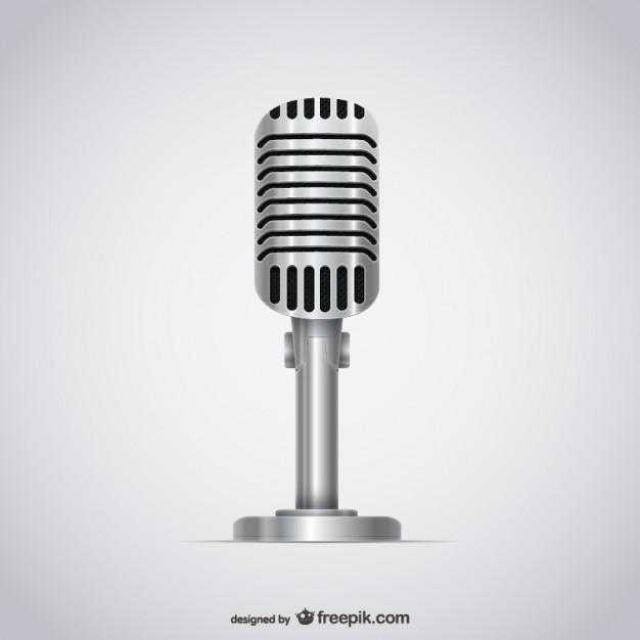microphone: (243, 94, 430, 560)
